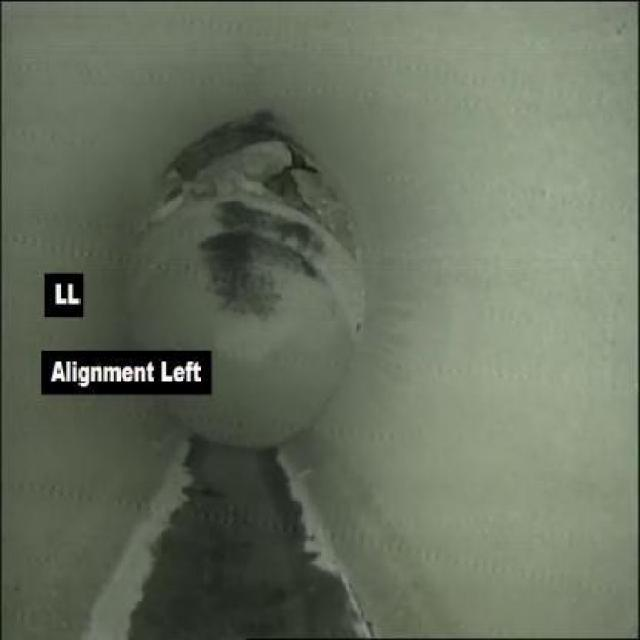Hole: (124, 113, 338, 210)
